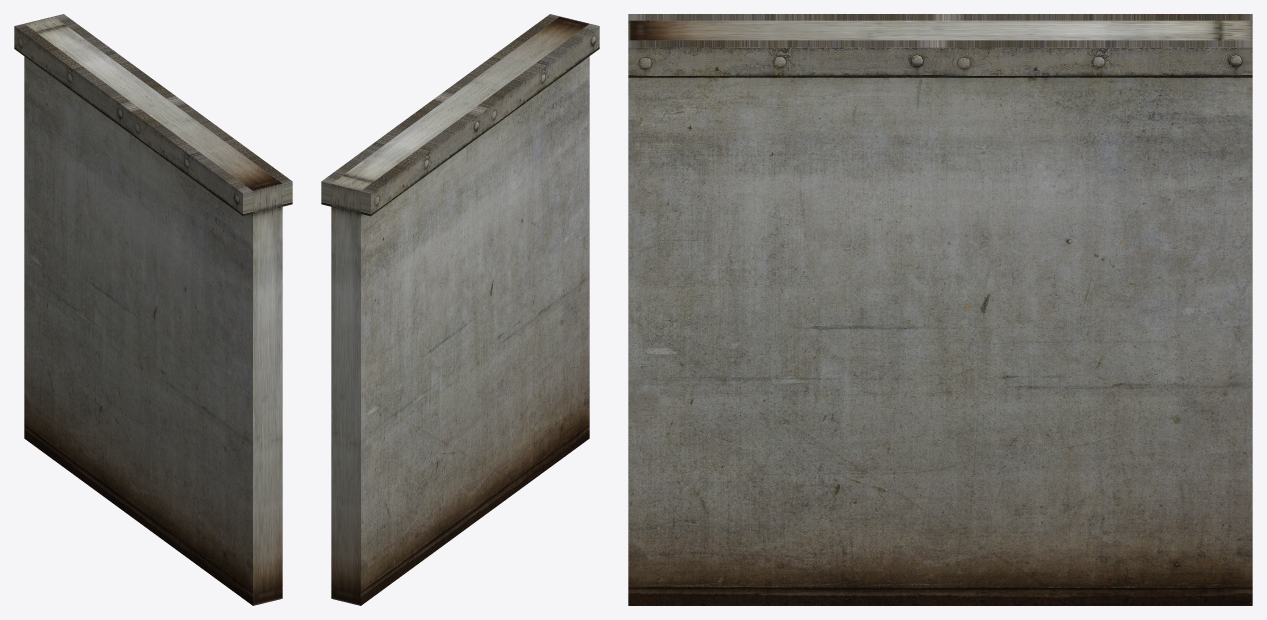
File: modular wall concrete.FBX
3 renders of one model, left to right at view 1: azimuth 30°, elevation 25°; view 2: azimuth 150°, elevation 25°; view 3: azimuth 270°, elevation 25°, orthographic. The views are drawn at different scales.
Parts seen in each view (by area): view 1: modular wall concrete; view 2: modular wall concrete; view 3: modular wall concrete.
Boxes of the visible parts, x1=… form: modular wall concrete: x1=14, y1=14, x2=292, y2=605; modular wall concrete: x1=321, y1=14, x2=599, y2=605; modular wall concrete: x1=628, y1=14, x2=1252, y2=605.
Size of the model in its own units: 50 by 400 by 400.
1 material, 1 textured.
